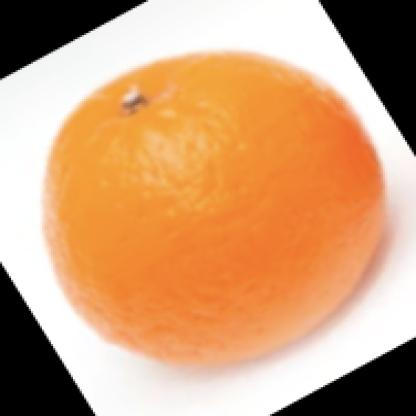fresh: (44, 52, 387, 368)
